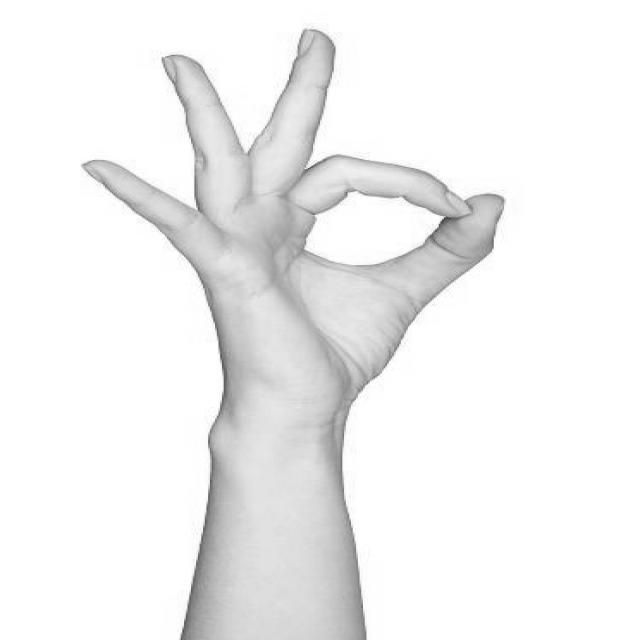perfect: (72, 20, 514, 441)
